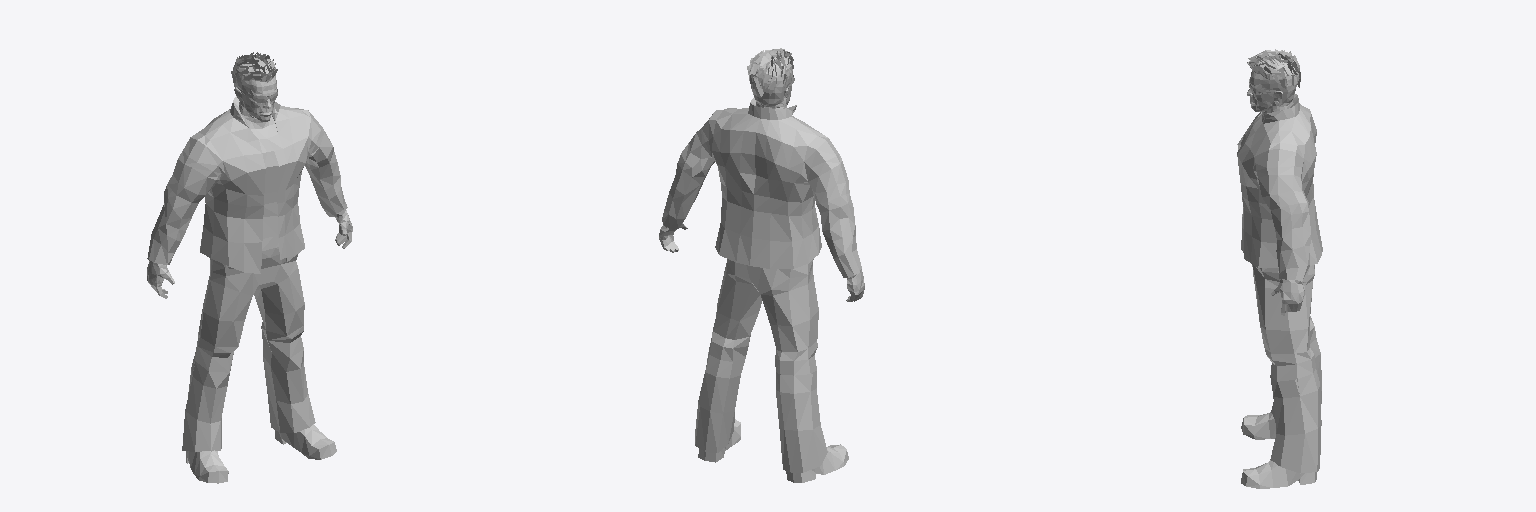
The model's file is arnold_standing.obj.
The picture shows the model from 3 angles: view 1: azimuth 30°, elevation 25°; view 2: azimuth 150°, elevation 25°; view 3: azimuth 270°, elevation 25°; orthographic projection.
Visible parts, largest first — view 1: Arnold_T-850; view 2: Arnold_T-850; view 3: Arnold_T-850.
Part boxes in pixels (bbox=[...]): Arnold_T-850: bbox=[147, 52, 352, 483]; Arnold_T-850: bbox=[659, 48, 864, 482]; Arnold_T-850: bbox=[1237, 49, 1322, 488].
Bounding box in the file's own units: 2 × 3.92 × 0.7447.